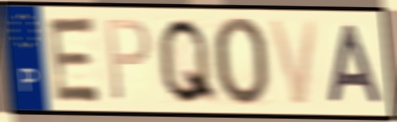A: (326, 22, 387, 107)
E: (46, 14, 105, 105)
O: (210, 14, 270, 110)
P: (103, 16, 153, 104)
Q: (156, 15, 222, 108)
V: (266, 17, 321, 109)
